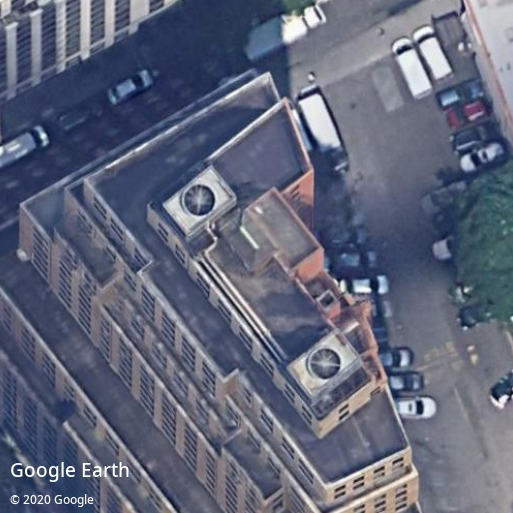Vent: (182, 184, 215, 217), (308, 348, 341, 380)
